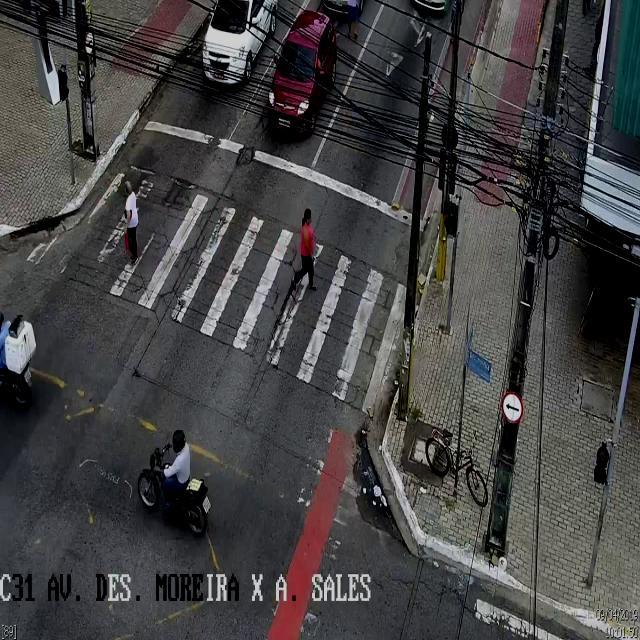Car: (267, 10, 337, 140), (201, 4, 276, 87)
Motorcycle: (136, 428, 212, 534), (0, 291, 47, 412)
